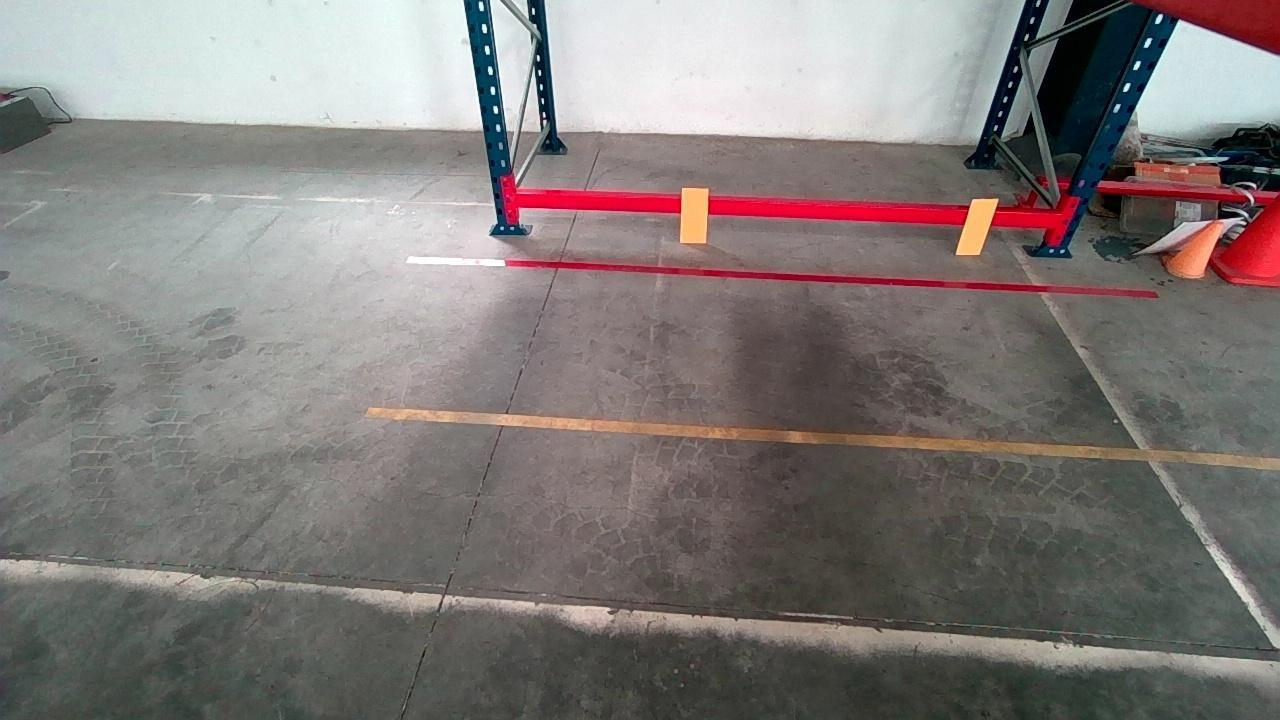h_rack: (516, 192, 1061, 228)
orange_strip: (957, 198, 1001, 254), (681, 187, 709, 242)
red_line: (485, 256, 1134, 299)
yellow_line: (363, 407, 1272, 469)
